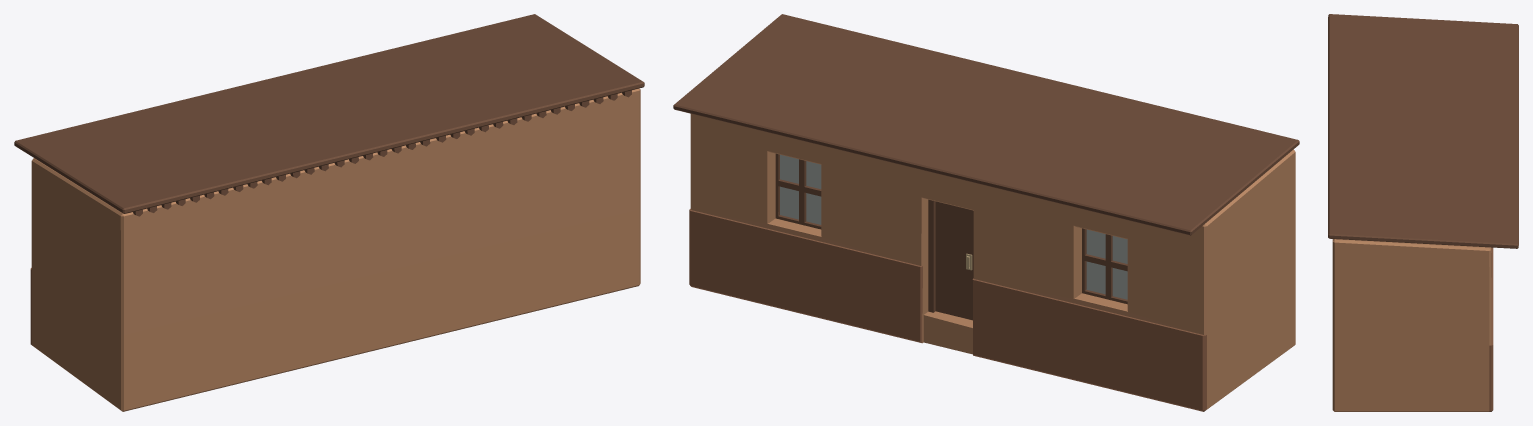
File: Edificio_Pequeña01.fbx
3 views of the same model, side by side, from view 1: azimuth 30°, elevation 25°; view 2: azimuth 150°, elevation 25°; view 3: azimuth 270°, elevation 25° (orthographic). The views are drawn at different scales.
Visible parts, largest first — view 1: SMDoorModule.001; view 2: SMDoorModule.001; view 3: SMDoorModule.001.
Part boxes in pixels (<box>): SMDoorModule.001: <box>14,14,644,411</box>; SMDoorModule.001: <box>673,14,1299,411</box>; SMDoorModule.001: <box>1328,14,1518,411</box>.
Bounding box in the file's own units: 988 × 373 × 361.
